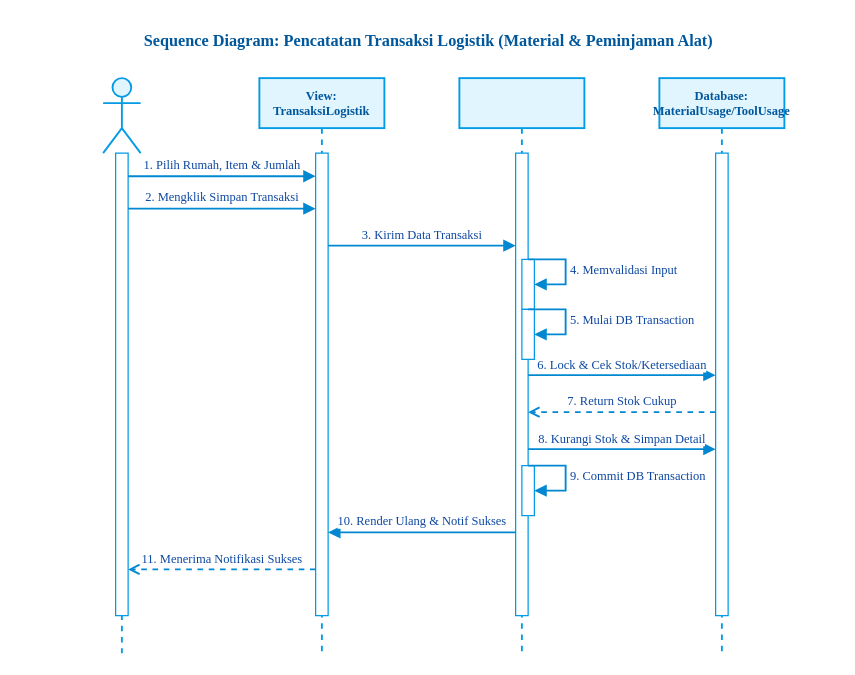
Image size: 855x675. Some labels were removed from this diagram. The box of each missing label's shape, as (x1, y1, x2, y2) in pixels:
Component: TransaksiLogistik: (458, 77, 585, 654)
Pengguna (Admin/Logistik): (102, 77, 141, 654)
